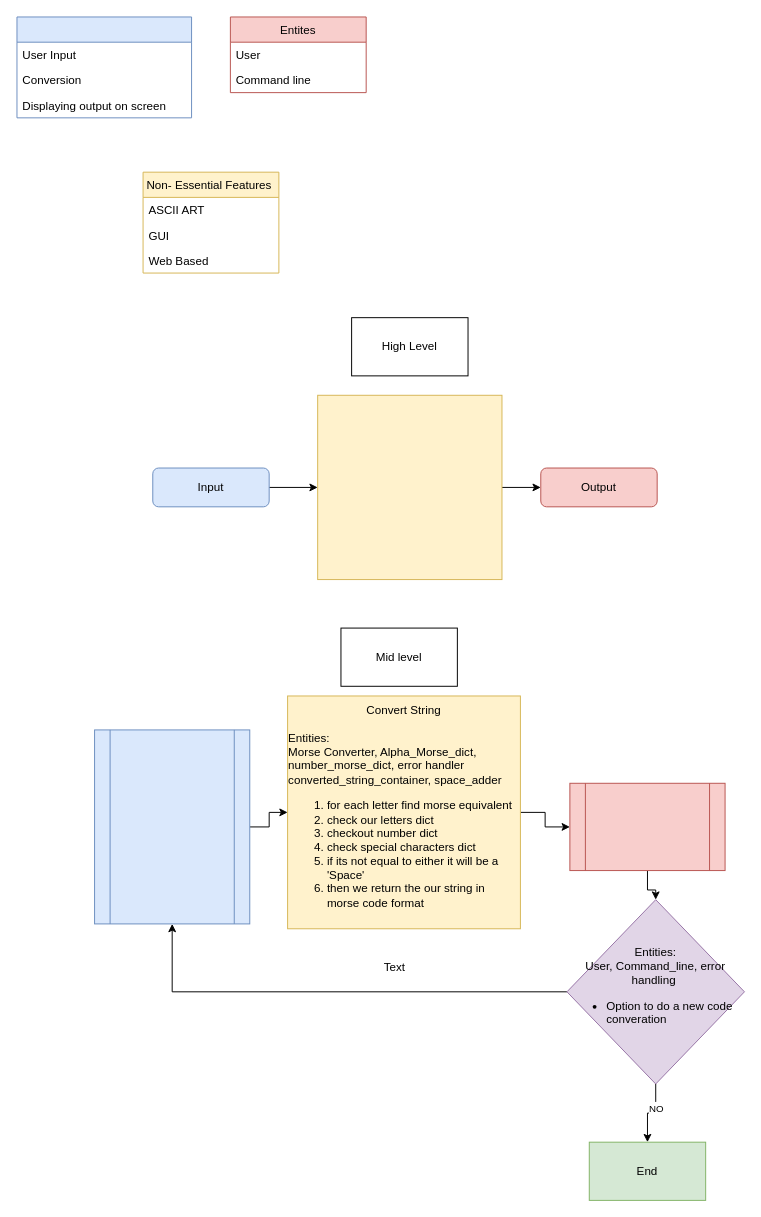
The diagram is 761 pixels wide and 1217 high, and some of its shapes have lost their labels. The box of each missing label's shape, as (x1, y1, x2, y2) in pixels:
CONVERT INPUT INTOL: Morse Code: (317, 394, 502, 580)
Entites: Command Line Output final string: Morse Code string: (569, 782, 725, 871)
Entities: User Method: Get User input Check if valid: (94, 729, 250, 924)
Essential Features: (16, 16, 192, 118)
